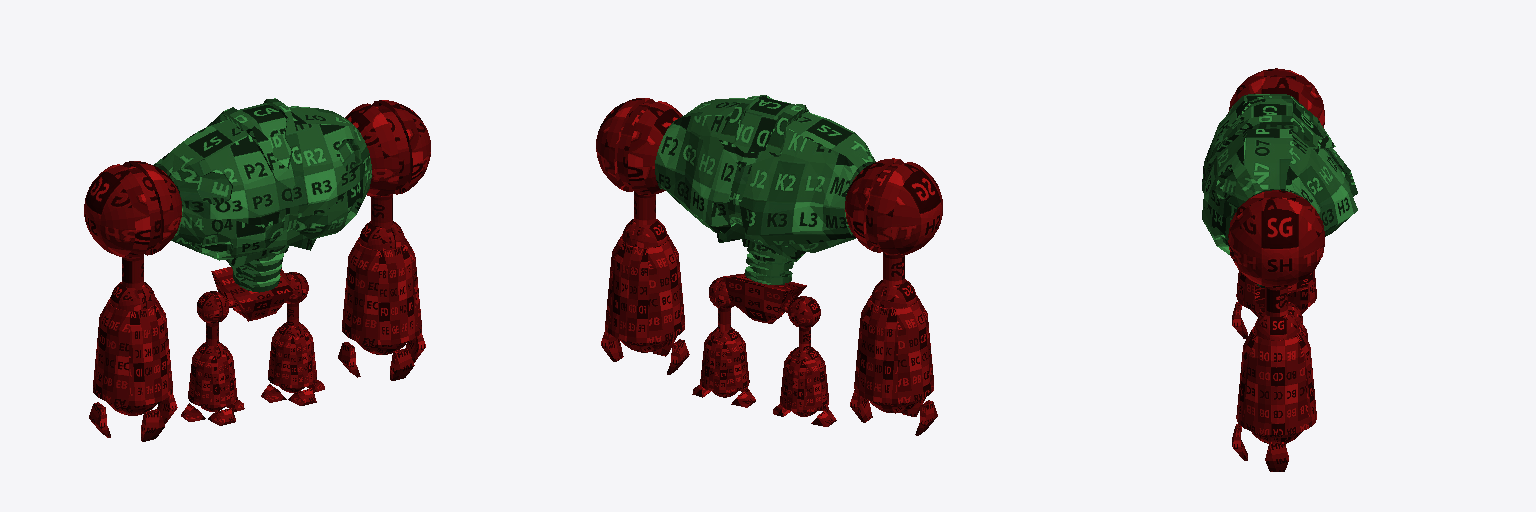
The picture shows the model from 3 angles: view 1: azimuth 30°, elevation 25°; view 2: azimuth 150°, elevation 25°; view 3: azimuth 270°, elevation 25°; orthographic projection.
Parts seen in each view (by area): view 1: Body Robot Chest UpperBody, Robot RightArm Right Shoulder_R, Robot Left LeftArm LowerArm_L, Robot RightArm Right LowerArm_R, Robot Left LeftArm Soulder_L, Robot Right RightLeg Shin_R, Robot LeftLeg Left Shin_L, Body Robot Head Head, Pelvis LowerBody Body Robot, Body Robot Brain Head, LowerBody Body Robot Abs, Body Robot UpperBody UpperRib (+7 smaller); view 2: Body Robot Chest UpperBody, Robot RightArm Right Shoulder_R, Robot RightArm Right LowerArm_R, Robot Left LeftArm LowerArm_L, Robot Left LeftArm Soulder_L, Robot LeftLeg Left Shin_L, Robot Right RightLeg Shin_R, Pelvis LowerBody Body Robot, Body Robot Head Head, Body Robot Brain Head, Body Robot UpperBody UpperRib, LowerBody Body Robot Abs (+5 smaller); view 3: Body Robot Chest UpperBody, Robot Left LeftArm Soulder_L, Robot Left LeftArm LowerArm_L, Body Robot Head Head, Robot RightArm Right Shoulder_R, Body Robot Brain Head, Robot Left LeftArm Elbow_L, Robot RightArm Right LowerArm_R, Pelvis LowerBody Body Robot, Robot Left LeftArm UpperArm_L, Robot Left LeftArm Claw003_L.
Part boxes in pixels (bbox=[...]): Body Robot Chest UpperBody: bbox=[153, 106, 371, 260]; Robot RightArm Right Shoulder_R: bbox=[84, 161, 181, 258]; Robot Left LeftArm LowerArm_L: bbox=[342, 237, 421, 344]; Robot RightArm Right LowerArm_R: bbox=[93, 297, 172, 405]; Robot Left LeftArm Soulder_L: bbox=[345, 100, 430, 197]; Robot Right RightLeg Shin_R: bbox=[188, 346, 237, 407]; Robot LeftLeg Left Shin_L: bbox=[268, 326, 316, 387]; Body Robot Head Head: bbox=[207, 98, 303, 188]; Pelvis LowerBody Body Robot: bbox=[211, 267, 294, 321]; Body Robot Brain Head: bbox=[238, 103, 291, 166]; LowerBody Body Robot Abs: bbox=[233, 253, 283, 292]; Body Robot UpperBody UpperRib: bbox=[175, 181, 315, 269]; Body Robot Chest UpperBody: bbox=[655, 98, 875, 252]; Robot RightArm Right Shoulder_R: bbox=[845, 158, 942, 255]; Robot RightArm Right LowerArm_R: bbox=[854, 295, 933, 403]; Robot Left LeftArm LowerArm_L: bbox=[605, 234, 684, 342]; Robot Left LeftArm Soulder_L: bbox=[596, 98, 682, 195]; Robot LeftLeg Left Shin_L: bbox=[700, 331, 749, 392]; Robot Right RightLeg Shin_R: bbox=[780, 351, 828, 412]; Pelvis LowerBody Body Robot: bbox=[723, 273, 806, 323]; Body Robot Head Head: bbox=[719, 95, 809, 167]; Body Robot Brain Head: bbox=[734, 98, 794, 166]; Body Robot UpperBody UpperRib: bbox=[717, 165, 858, 261]; LowerBody Body Robot Abs: bbox=[745, 247, 793, 284]; Body Robot Chest UpperBody: bbox=[1202, 94, 1357, 254]; Robot Left LeftArm Soulder_L: bbox=[1228, 190, 1324, 287]; Robot Left LeftArm LowerArm_L: bbox=[1236, 326, 1316, 434]; Body Robot Head Head: bbox=[1207, 96, 1335, 162]; Robot RightArm Right Shoulder_R: bbox=[1228, 68, 1324, 127]; Body Robot Brain Head: bbox=[1220, 101, 1324, 149]; Robot Left LeftArm Elbow_L: bbox=[1254, 311, 1298, 339]; Robot RightArm Right LowerArm_R: bbox=[1236, 270, 1316, 312]; Pelvis LowerBody Body Robot: bbox=[1255, 277, 1307, 313]; Robot Left LeftArm UpperArm_L: bbox=[1265, 287, 1287, 316]; Robot Left LeftArm Claw003_L: bbox=[1265, 442, 1288, 471].
Size of the model in its own units: 25.27 by 21.55 by 10.25.
2 materials, 2 textured.